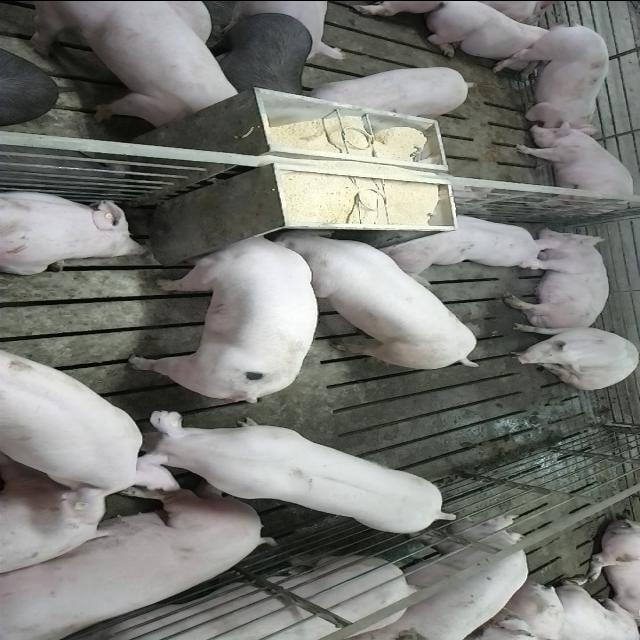Feeding: (126, 223, 320, 397), (276, 228, 482, 374)
Lateral_lying: (0, 483, 274, 637), (500, 225, 610, 331)
Sitting: (501, 324, 638, 389)
Standing: (123, 404, 459, 534), (8, 552, 419, 640), (15, 1, 246, 126), (0, 350, 174, 508), (351, 517, 534, 640), (492, 24, 612, 130), (510, 121, 636, 209), (308, 62, 478, 116), (212, 11, 314, 96)
Sternal_lying: (0, 187, 150, 274), (376, 208, 554, 276), (424, 1, 562, 59)
